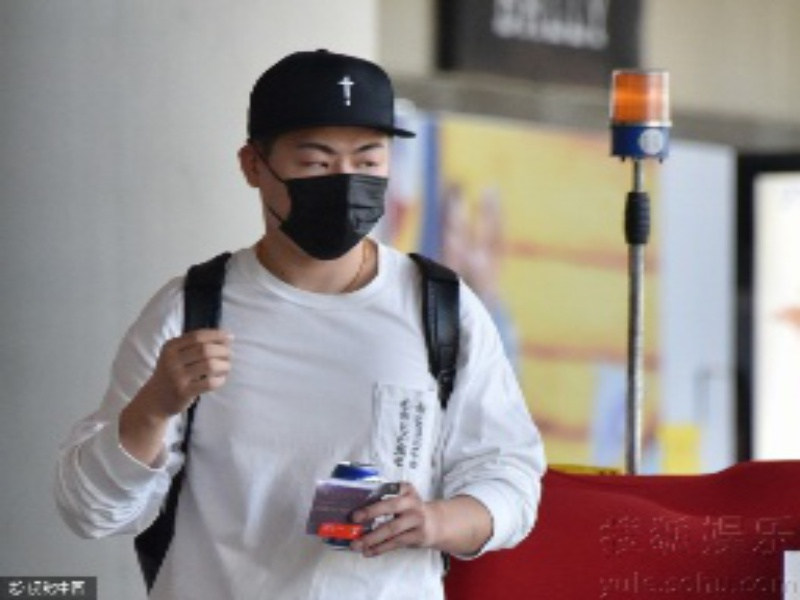ManaoArotava: (226, 48, 410, 267)
